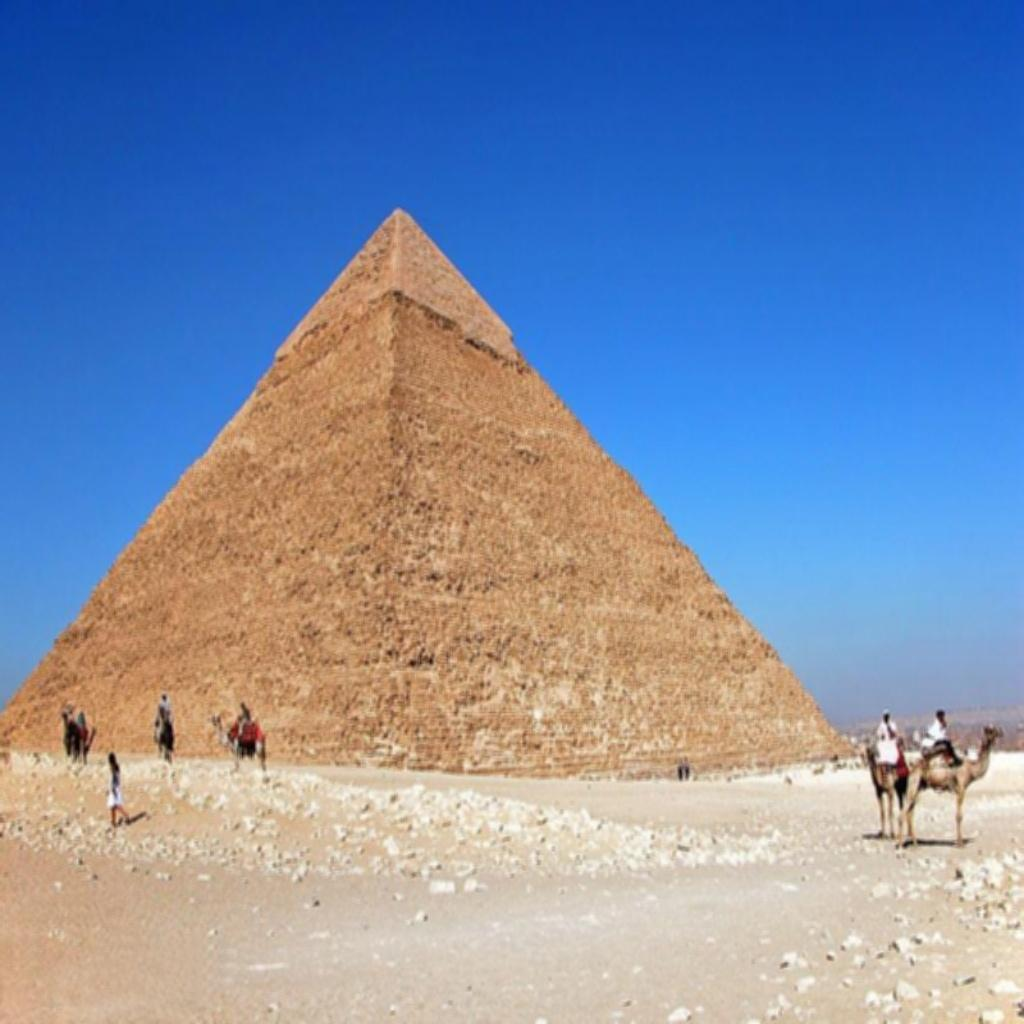Great Pyramids of Giza: (6, 196, 858, 782)
